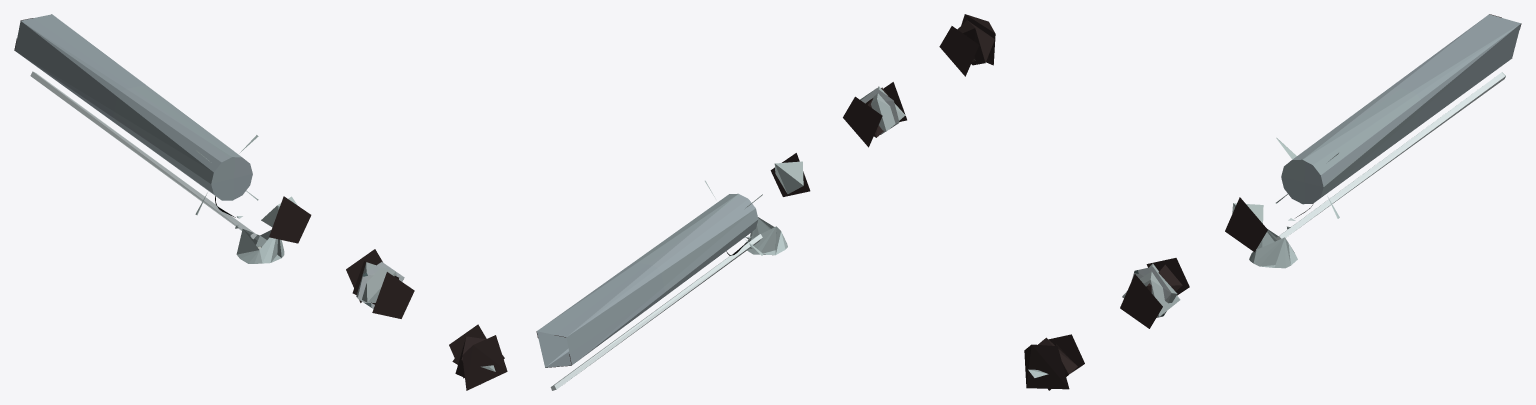
File: pt-11m00000000637420-geode.glb
The picture shows the model from 3 angles, left to right: view 1: azimuth 30°, elevation 25°; view 2: azimuth 150°, elevation 25°; view 3: azimuth 330°, elevation 25°; orthographic projection. The views are drawn at different scales.
Parts seen in each view (by area): view 1: Node; view 2: Node; view 3: Node.
Boxes of the visible parts, box(x1,y1,x2,y2) form: Node: box(14, 14, 507, 390); Node: box(536, 14, 995, 390); Node: box(1024, 14, 1521, 390).
Bounding box in the file's own units: 0.4525 × 0.6119 × 5.83.
1 material, 1 textured.
